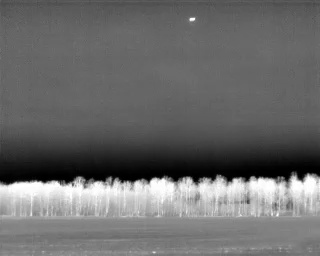DRONE: (186, 13, 199, 26)
